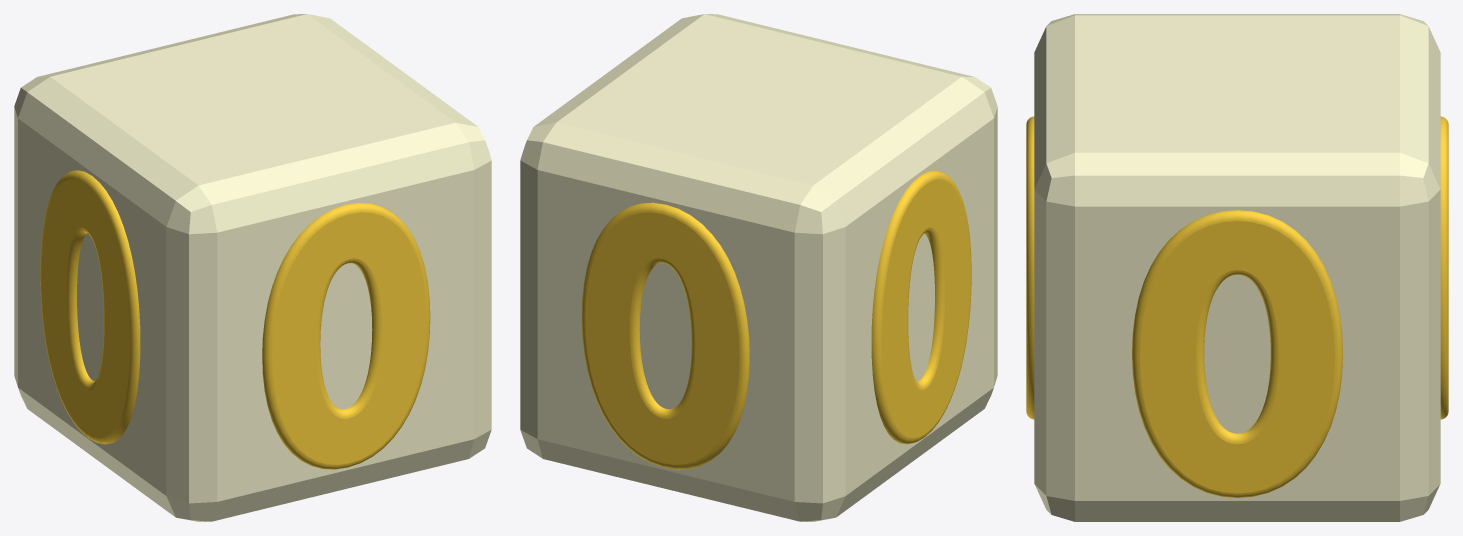
The picture shows the model from 3 angles, left to right: view 1: azimuth 30°, elevation 25°; view 2: azimuth 150°, elevation 25°; view 3: azimuth 270°, elevation 25°; orthographic projection. The views are drawn at different scales.
Parts seen in each view (by area): view 1: 0; view 2: 0; view 3: 0.
Boxes of the visible parts, left/top/right/bottom form: 0: left=14, top=14, right=491, bottom=521; 0: left=520, top=14, right=997, bottom=521; 0: left=1026, top=14, right=1448, bottom=521.
Bounding box in the file's own units: 208 × 200 × 208.
